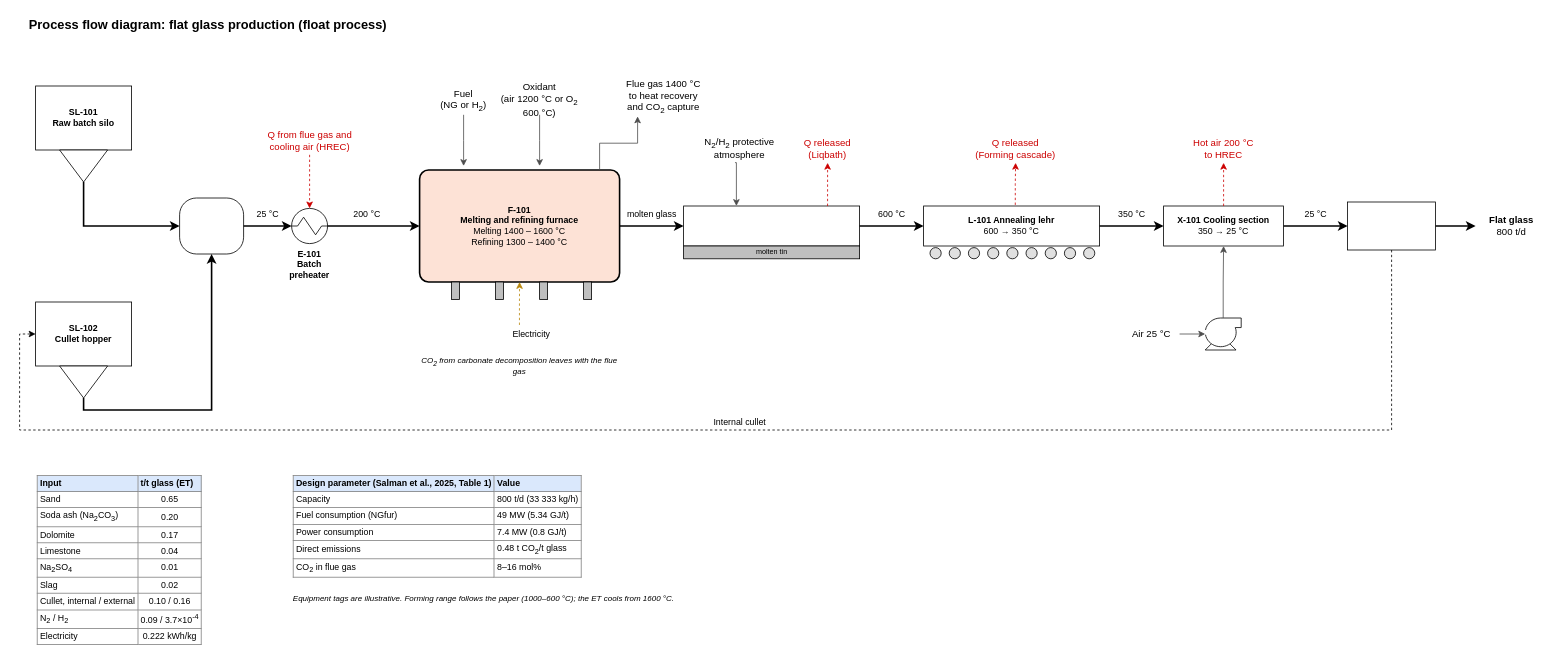
Some shapes in this 1562 by 667 pixel diagram are drawn without their labels. The shapes that lost their labels are listed below. From the top down, each one's centre as x and y in pixels, then its label:
point (211, 225): M-101 Batch mixer
point (771, 225): FB-101 Float (tin) bath 1000 → 600 °C
point (1391, 225): CT-101 Cutting and inspection
point (1222, 333): K-101 Cooling-air fan
